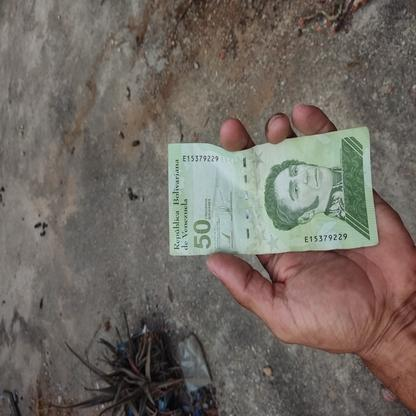fifty-front-vef: (168, 126, 380, 256)
